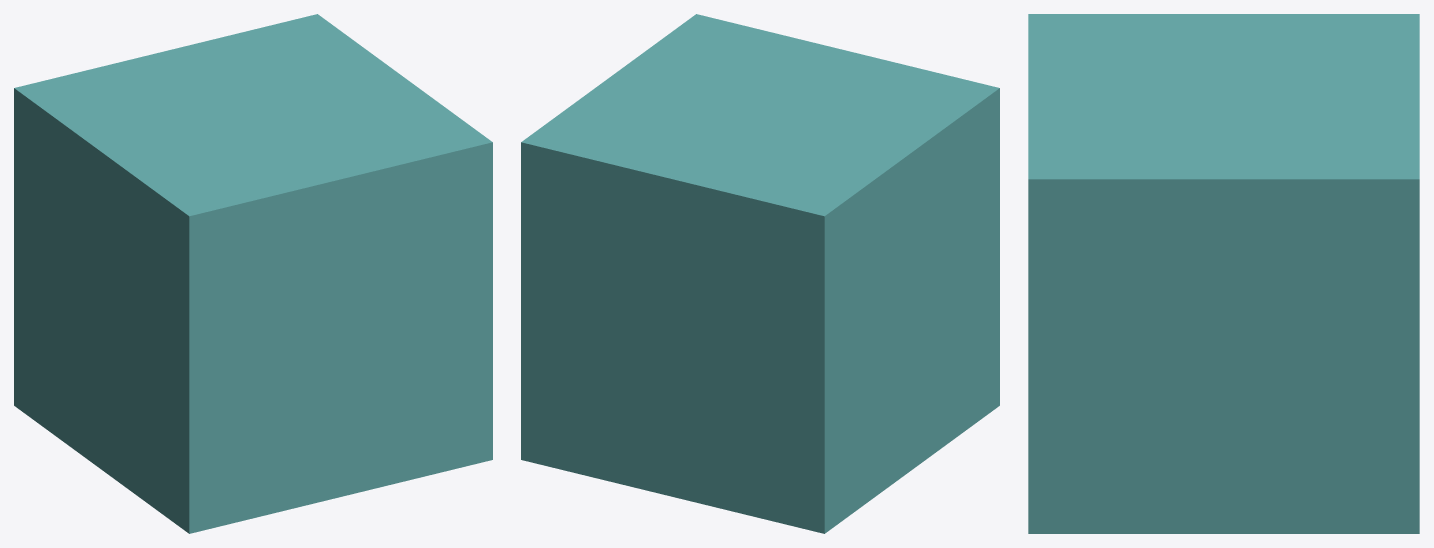
Rendered from OneWay_Full.glb.
3 views of the same model, side by side, from view 1: azimuth 30°, elevation 25°; view 2: azimuth 150°, elevation 25°; view 3: azimuth 270°, elevation 25° (orthographic). The views are drawn at different scales.
Parts seen in each view (by area): view 1: OneWay_Full_body; view 2: OneWay_Full_body; view 3: OneWay_Full_body.
Part boxes in pixels (x1,y1,x2,y2): OneWay_Full_body: (14, 14, 492, 533); OneWay_Full_body: (521, 14, 999, 533); OneWay_Full_body: (1028, 14, 1419, 533).
Size of the model in its own units: 1 by 1 by 1.
